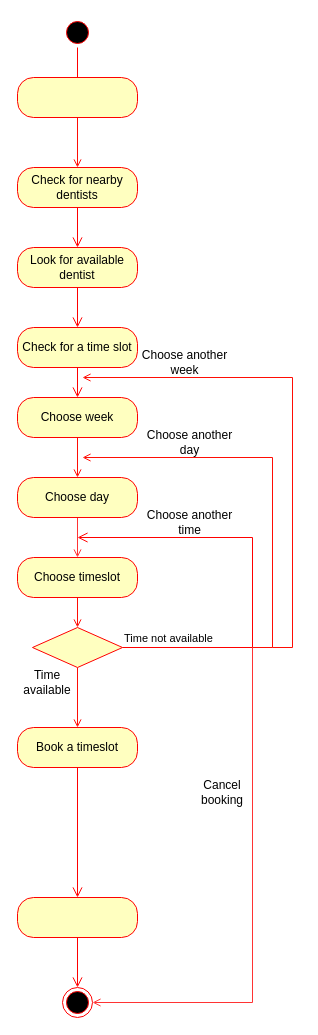
This 318x1035 diagram has some shape labels left out. Each missing label, with the centre of its shape:
"Condition" belongs at point 77,647.
"Open map to check dentist location" belongs at point 77,97.
"Save a spot" belongs at point 77,917.
